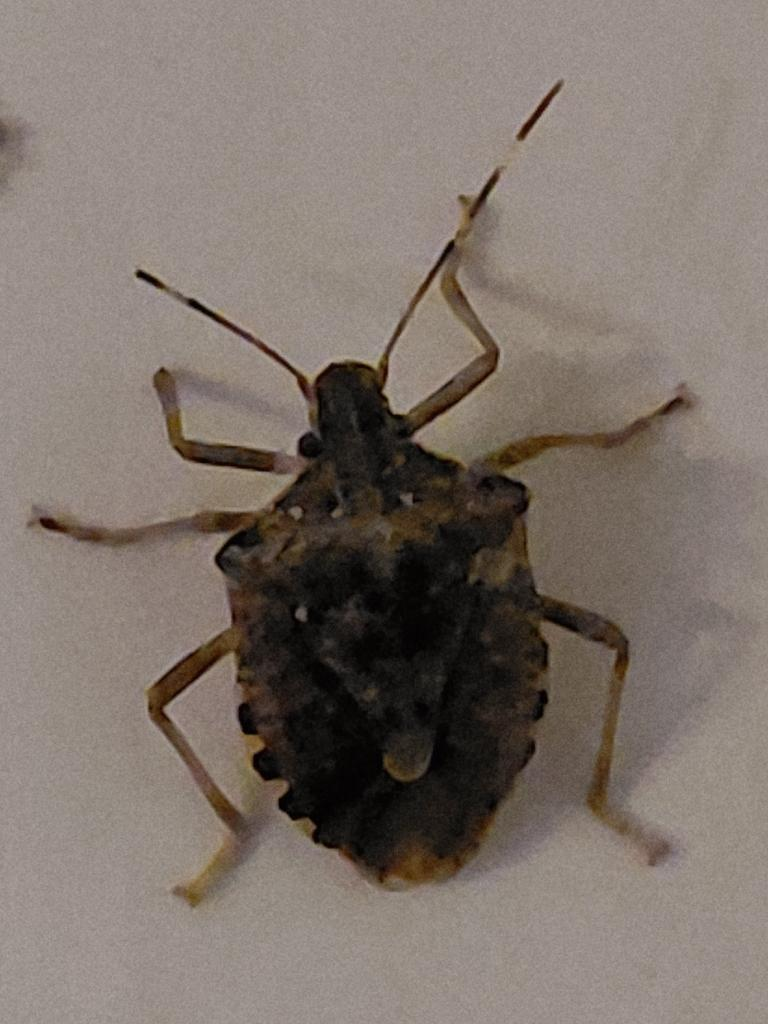stink_bugs: (0, 30, 768, 1011)
